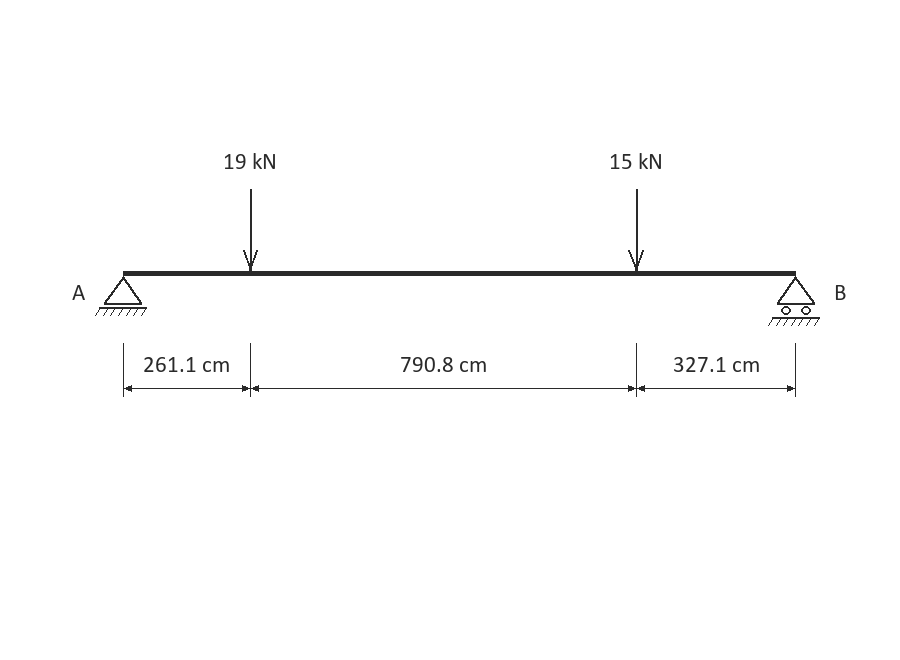pin_support: (95, 276, 147, 316)
point_load: (628, 189, 644, 271), (243, 189, 258, 271)
roller_support: (768, 276, 820, 326)
